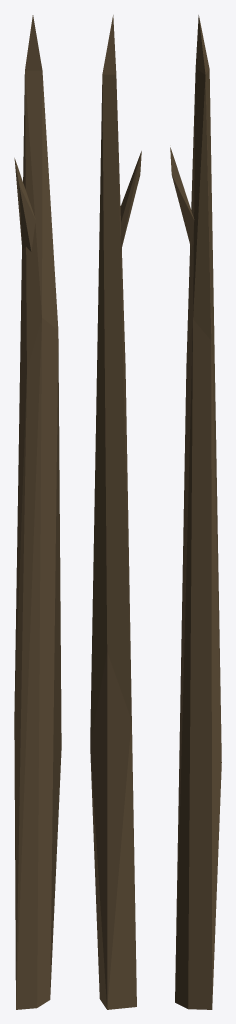
The model's file is Stick.fbx.
3 renders of one model, left to right at view 1: azimuth 30°, elevation 25°; view 2: azimuth 150°, elevation 25°; view 3: azimuth 330°, elevation 25°, orthographic.
Visible parts, largest first — view 1: Stick; view 2: Stick; view 3: Stick.
Boxes of the visible parts, box(x1,y1,x2,y2) form: Stick: box(14, 15, 61, 1009); Stick: box(90, 15, 141, 1009); Stick: box(170, 15, 221, 1009).
Bounding box in the file's own units: 36.76 × 704 × 19.98.
